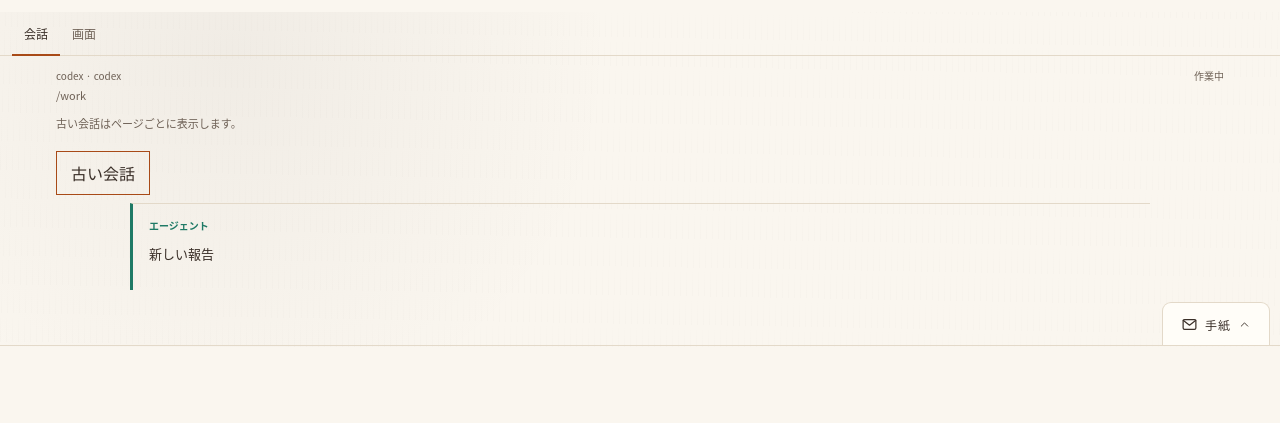
Test case: changes bounded pages only on explicit navigation and requests newer records from that page
Expected: the text "新しい報告" is shown, [149, 244, 214, 263]
What coordinates should you click on to do the following:
click the button "古い会話"
I would click on:
 (103, 173)
Its box is [56, 151, 150, 195].
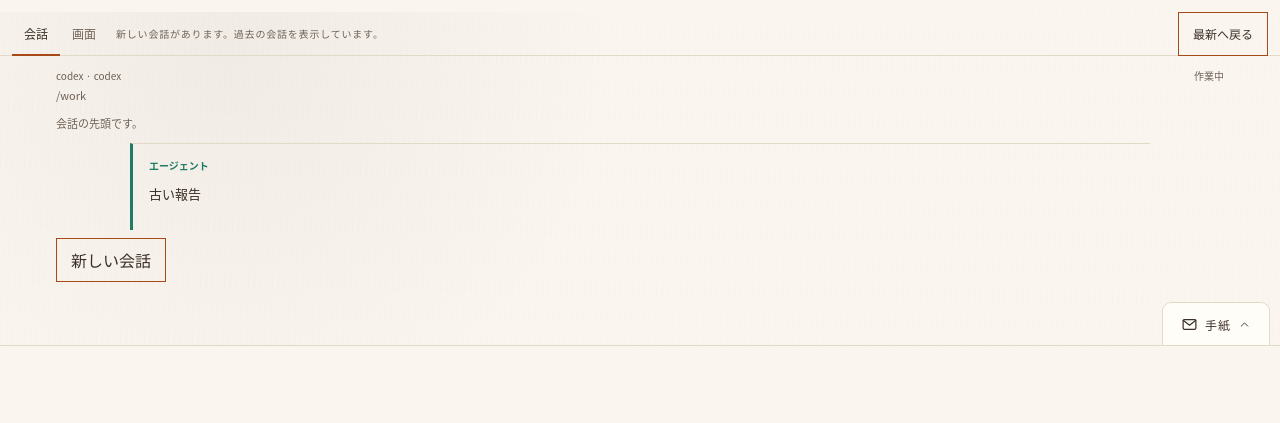
Now the text "新しい報告" is gone
Now the button "新しい会話" is enabled
Now the text "新しい会話があります。過去の会話を表示しています。" is shown, box [116, 29, 384, 40]
What coordinates should you click on to do the following:
click the button "新しい会話"
I would click on:
 (111, 260)
Its box is [56, 238, 166, 282].
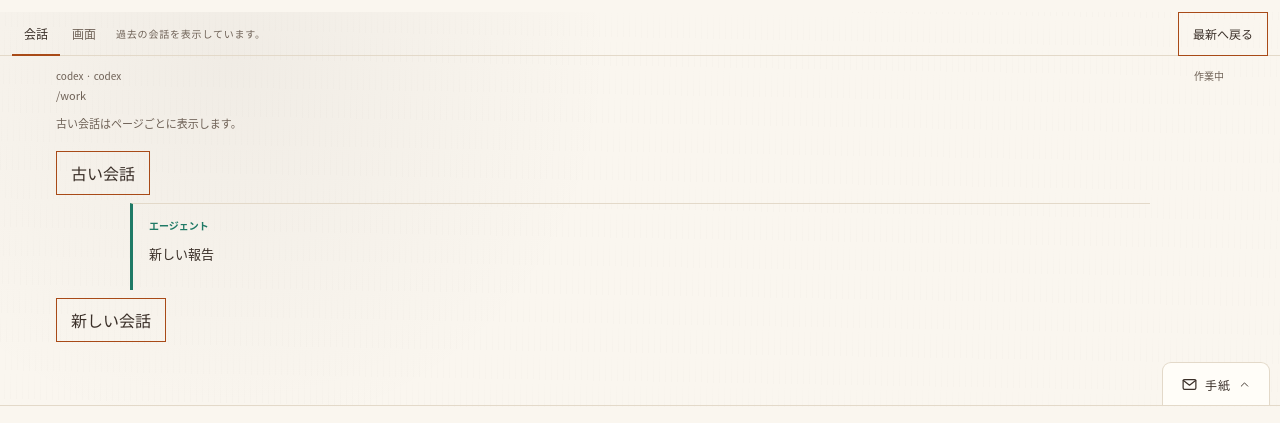
Now the text "新しい報告" is shown, box [149, 244, 214, 263]
